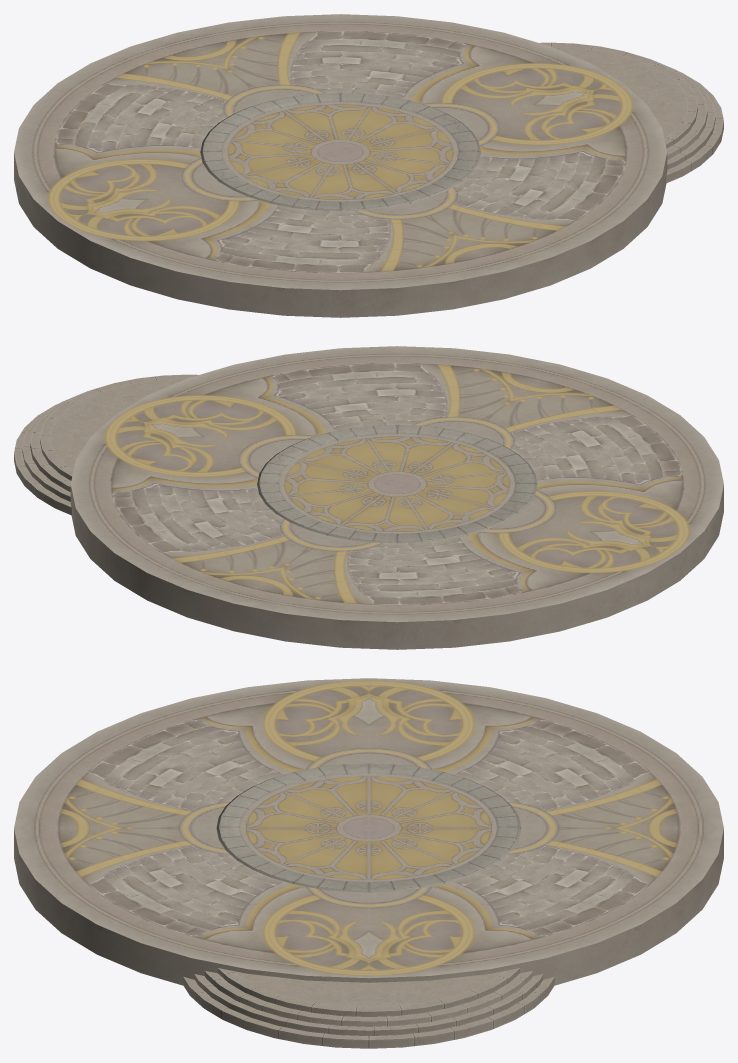
The model's file is mod_zlc_jianzhu038_xy_02.FBX.
3 renders of one model, top to bottom at view 1: azimuth 30°, elevation 25°; view 2: azimuth 150°, elevation 25°; view 3: azimuth 270°, elevation 25°, orthographic. The views are drawn at different scales.
Parts seen in each view (by area): view 1: mod_zlc_jianzhu038_xy_02; view 2: mod_zlc_jianzhu038_xy_02; view 3: mod_zlc_jianzhu038_xy_02.
Part boxes in pixels (x1,y1,x2,y2): mod_zlc_jianzhu038_xy_02: (14,14,723,317); mod_zlc_jianzhu038_xy_02: (14,346,723,649); mod_zlc_jianzhu038_xy_02: (14,678,723,1048).
Size of the model in its own units: 3642 by 155 by 3205.
Materials: 3 (3 with a texture image).
